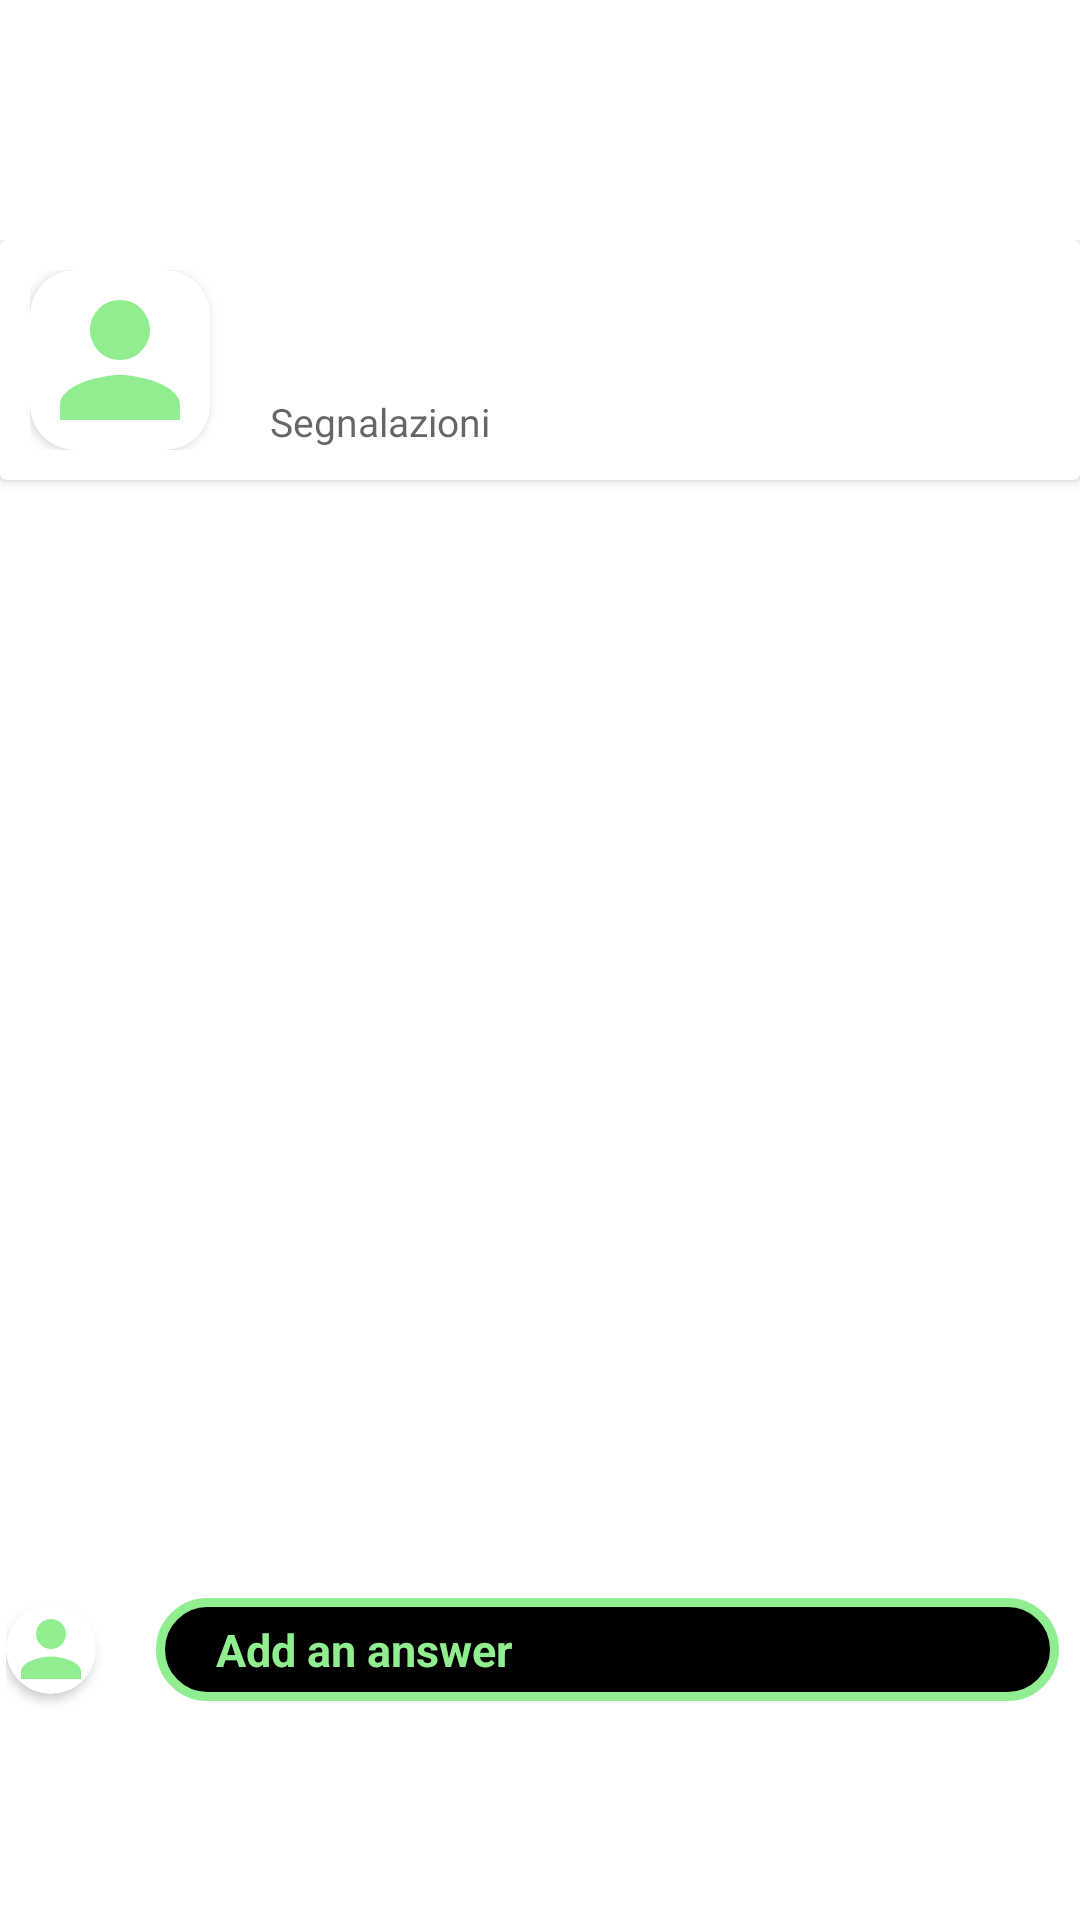

Icon click points for this 1080px x 1920px phone screenshot, format point (x, y):
person: point (105, 375), point (46, 1656)
